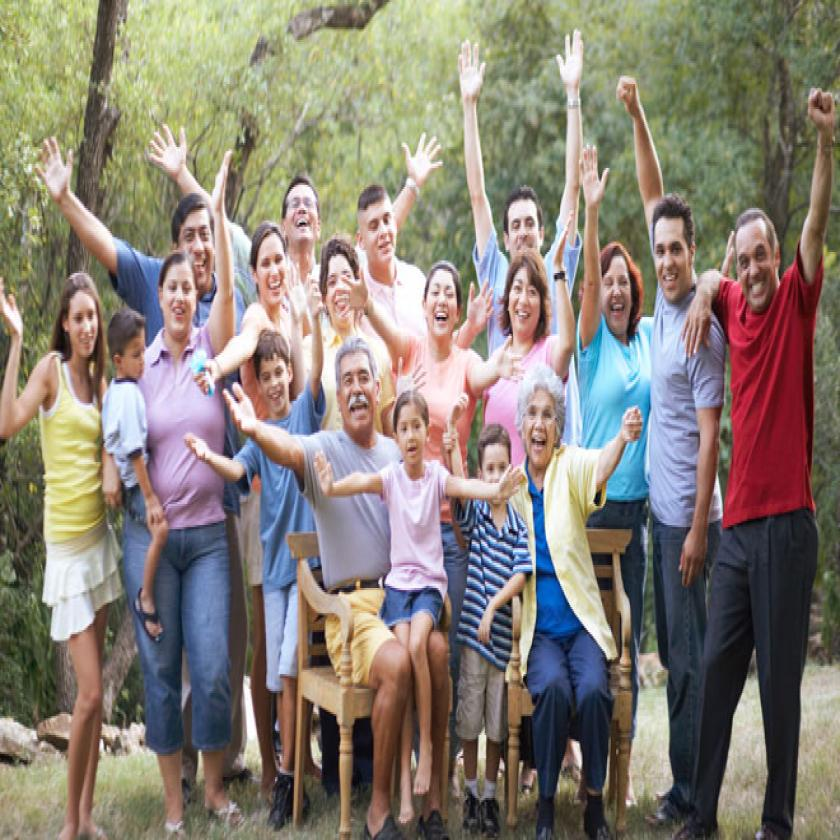Sin_casco: (726, 196, 787, 312), (645, 186, 704, 301), (168, 189, 222, 303), (56, 267, 107, 382), (251, 324, 299, 432), (154, 249, 202, 351), (334, 338, 384, 434), (418, 250, 467, 345), (105, 302, 153, 397), (246, 216, 294, 310), (516, 371, 568, 457), (494, 258, 550, 336), (323, 238, 364, 340), (597, 235, 634, 336), (280, 173, 320, 261), (503, 175, 546, 252), (474, 410, 512, 490), (358, 191, 399, 263), (397, 399, 431, 469)
